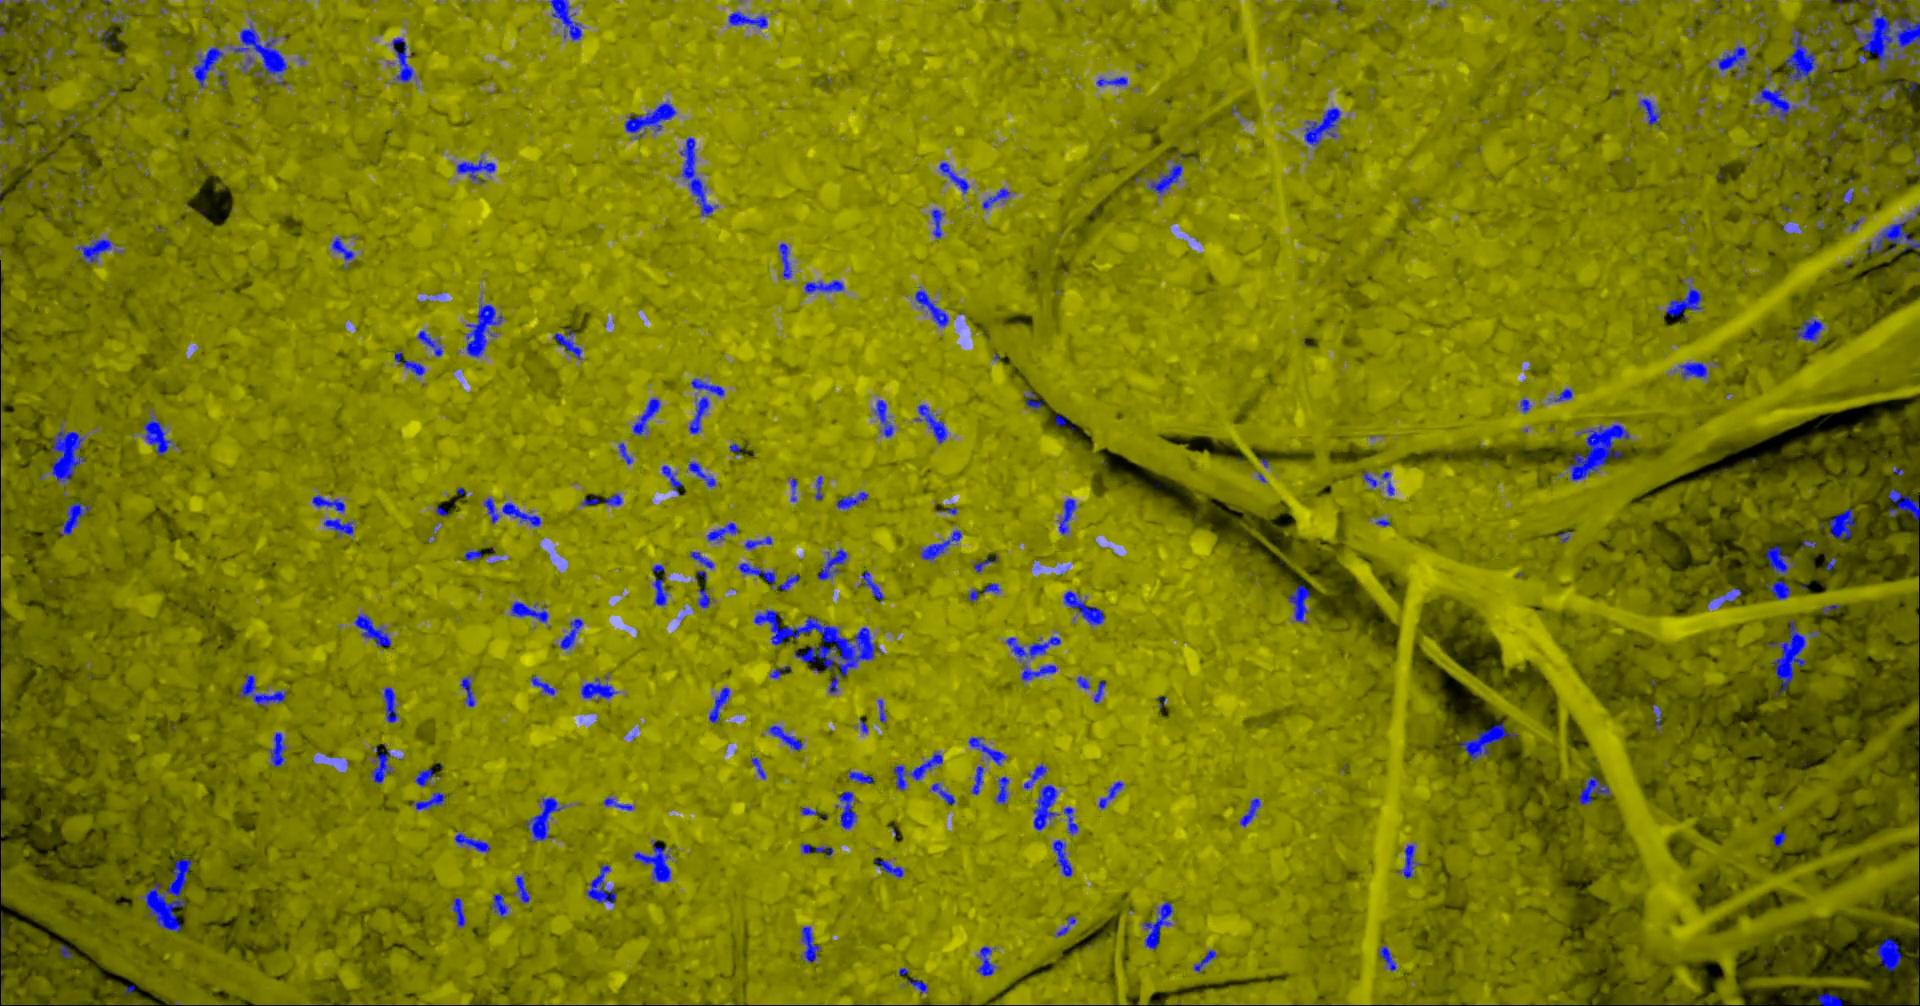ant: (679, 136, 717, 216), (1865, 207, 1919, 254), (1457, 720, 1517, 761), (891, 751, 942, 790), (623, 100, 676, 138), (465, 304, 502, 357), (1754, 83, 1797, 123), (524, 796, 563, 842), (737, 561, 799, 589), (1764, 544, 1794, 600), (483, 497, 540, 526), (237, 673, 286, 708), (1147, 151, 1185, 194), (632, 840, 670, 882), (1142, 901, 1173, 949), (1303, 107, 1340, 147), (914, 286, 949, 326), (1063, 589, 1103, 624), (1004, 636, 1060, 661), (914, 403, 947, 443), (192, 46, 223, 88), (919, 528, 961, 560), (142, 415, 177, 453), (549, 0, 582, 39), (1665, 283, 1703, 316), (353, 614, 391, 647), (1032, 784, 1059, 829), (585, 864, 616, 903), (1716, 43, 1751, 76), (58, 500, 91, 535), (968, 735, 1006, 765), (390, 37, 413, 83), (632, 398, 660, 434), (1887, 488, 1919, 520), (817, 547, 847, 580), (1577, 775, 1610, 805), (580, 674, 617, 701), (552, 326, 582, 359), (456, 159, 495, 183), (938, 163, 969, 193), (1826, 508, 1855, 539), (370, 746, 394, 782), (76, 238, 110, 263), (1288, 584, 1310, 622), (510, 600, 549, 622), (767, 725, 803, 749), (1790, 315, 1823, 340), (1876, 937, 1901, 970), (857, 570, 883, 602), (1361, 471, 1394, 495), (872, 399, 893, 437), (1398, 843, 1420, 879), (688, 396, 709, 433), (1051, 840, 1072, 876), (686, 461, 715, 486), (394, 351, 424, 375), (559, 619, 583, 649), (709, 687, 729, 723), (800, 926, 820, 962), (330, 238, 354, 267), (1098, 780, 1123, 809), (837, 791, 856, 828), (690, 550, 712, 580), (455, 832, 489, 852), (417, 330, 443, 356), (1638, 97, 1662, 124), (268, 730, 286, 767), (728, 11, 767, 28), (662, 464, 682, 495), (982, 187, 1010, 210), (1058, 498, 1076, 533), (1708, 587, 1741, 606), (651, 564, 667, 605), (977, 945, 997, 976), (690, 379, 724, 396), (1239, 796, 1260, 826), (836, 492, 869, 509), (311, 494, 344, 512), (411, 791, 444, 809), (1023, 763, 1046, 789), (803, 279, 843, 293), (323, 518, 354, 536), (706, 522, 738, 540), (1020, 664, 1057, 680), (874, 857, 903, 876), (1192, 949, 1217, 972), (382, 687, 397, 721), (930, 782, 954, 804), (1677, 361, 1707, 379), (530, 674, 555, 695), (778, 243, 792, 279), (1053, 915, 1076, 936), (1377, 945, 1396, 970), (513, 874, 530, 903), (1827, 123, 1846, 147), (489, 893, 507, 918), (800, 843, 832, 857), (460, 676, 474, 706), (602, 796, 632, 810), (451, 897, 465, 927), (973, 556, 998, 573), (930, 208, 943, 238), (1063, 807, 1077, 835), (744, 535, 771, 549), (415, 768, 436, 786), (996, 776, 1008, 804), (1023, 390, 1041, 409), (1816, 992, 1843, 1005), (1548, 387, 1572, 401), (907, 977, 927, 993), (971, 765, 983, 794), (1054, 414, 1076, 429), (1096, 76, 1128, 86), (848, 770, 872, 782), (618, 442, 632, 464), (750, 757, 764, 779), (1651, 704, 1661, 733), (1093, 680, 1105, 702), (770, 666, 790, 678), (603, 493, 622, 506), (697, 588, 710, 607), (217, 70, 227, 91), (463, 549, 483, 560), (1771, 831, 1785, 846), (982, 582, 999, 593), (877, 699, 886, 721), (1076, 674, 1090, 688), (814, 475, 822, 500), (1519, 398, 1531, 412), (58, 945, 72, 958), (790, 478, 797, 500), (1843, 187, 1853, 203), (580, 497, 598, 506), (968, 588, 978, 601), (0, 729, 1, 782), (1917, 614, 1919, 666)
